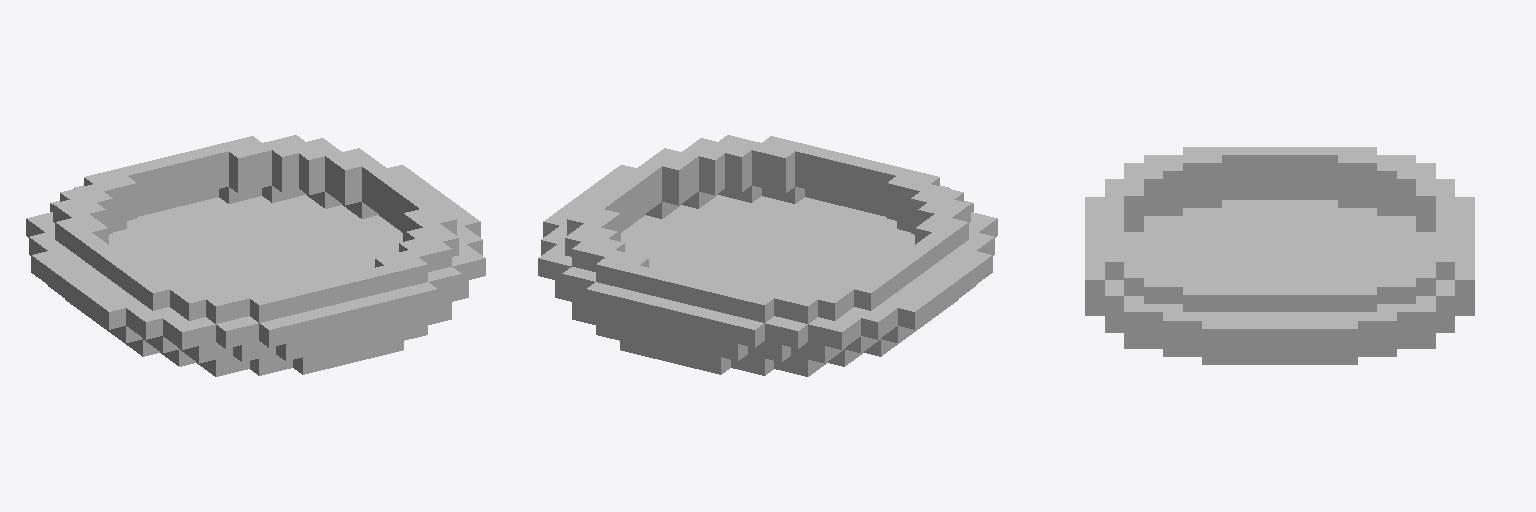
The model's file is Easter egg-1.obj.
The picture shows the model from 3 angles: view 1: azimuth 30°, elevation 25°; view 2: azimuth 150°, elevation 25°; view 3: azimuth 270°, elevation 25°; orthographic projection.
Parts seen in each view (by area): view 1: object 1; view 2: object 1; view 3: object 1.
Part boxes in pixels (x1,y1,x2,y2): object 1: (26,135,485,376); object 1: (538,135,997,376); object 1: (1085,147,1474,364).
Bounding box in the file's own units: 2.2 × 0.4 × 2.